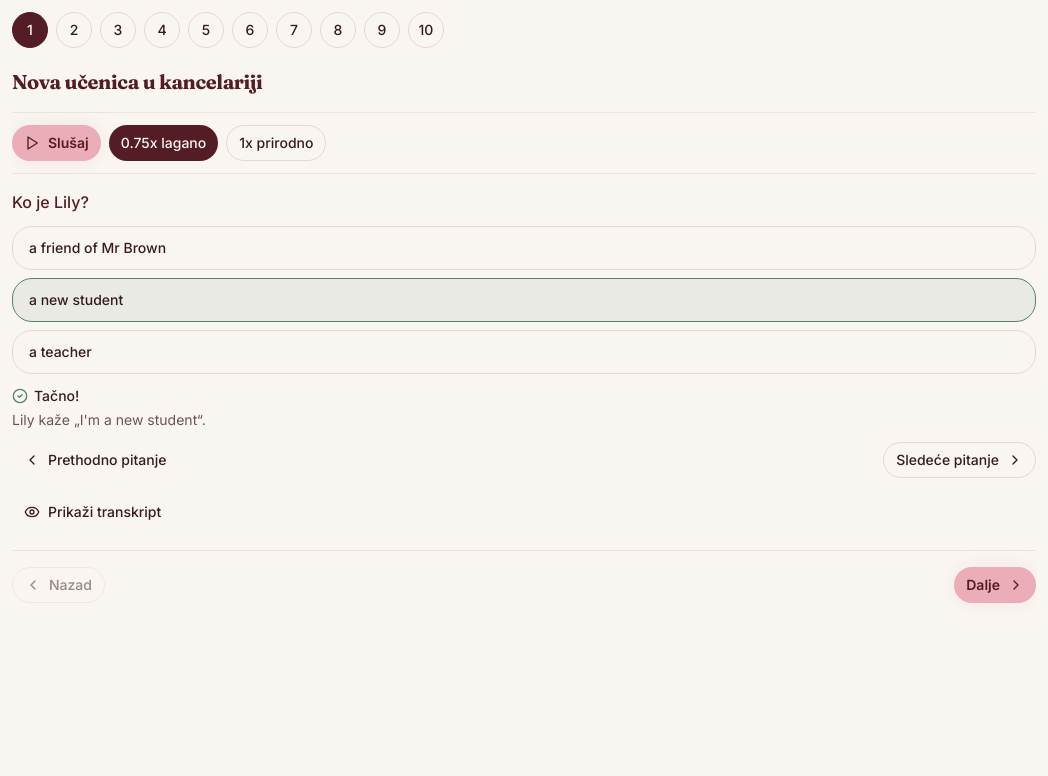
Test: Unified lesson listening › preserves answers on navigation, uses requested speeds, completes all ten and deduplicates rewards
Earlier steps of the test are not shown.
Later steps or results of the test are not shown.
Click the button "Sledeće pitanje" at {"x": 960, "y": 460}, box [883,442,1036,478]
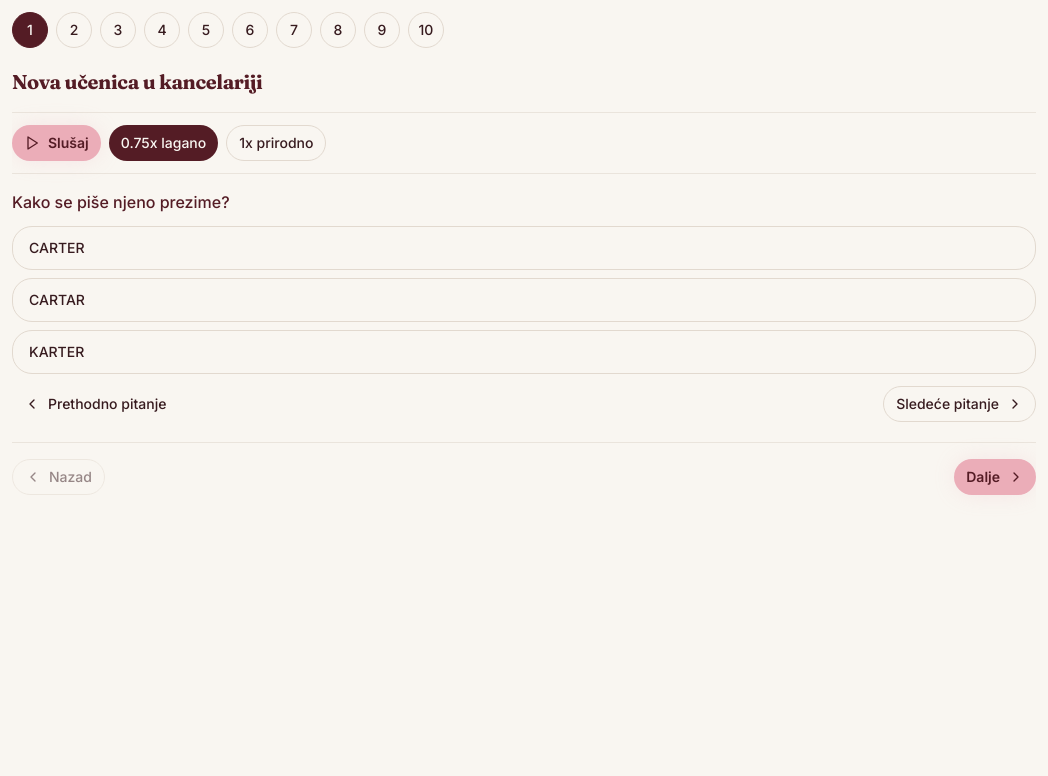
Click the button "CARTER" at {"x": 57, "y": 248}, box [12,226,1036,270]
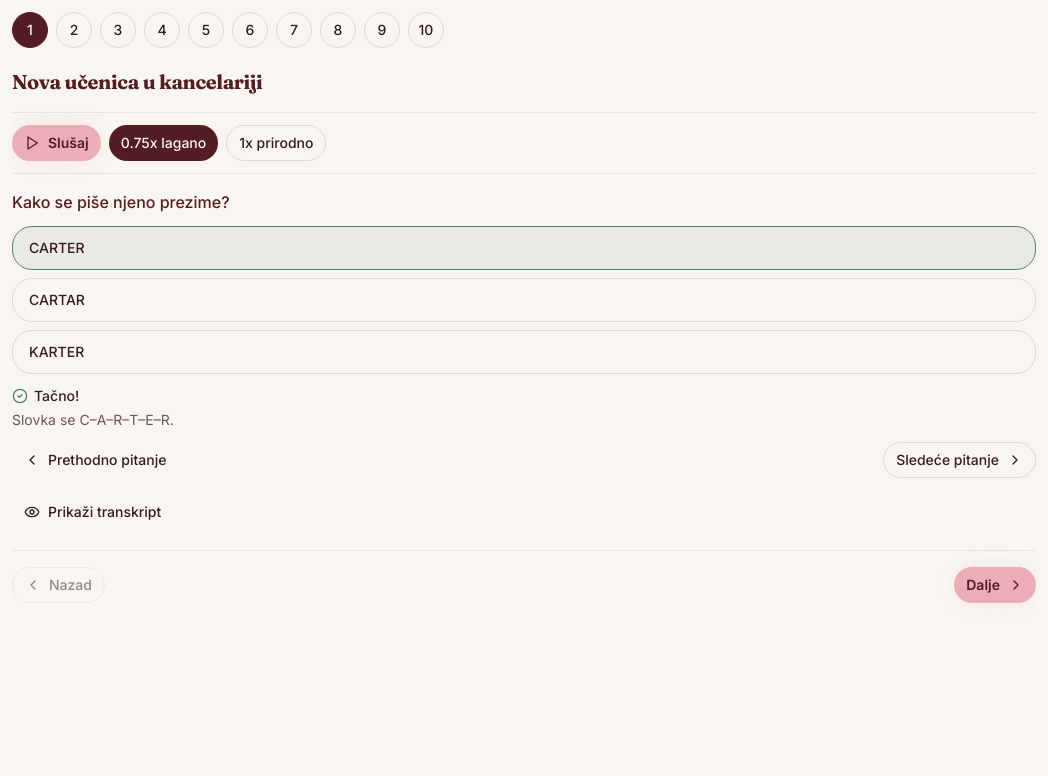
Click the button "Sledeće pitanje" at {"x": 960, "y": 460}, box [883,442,1036,478]
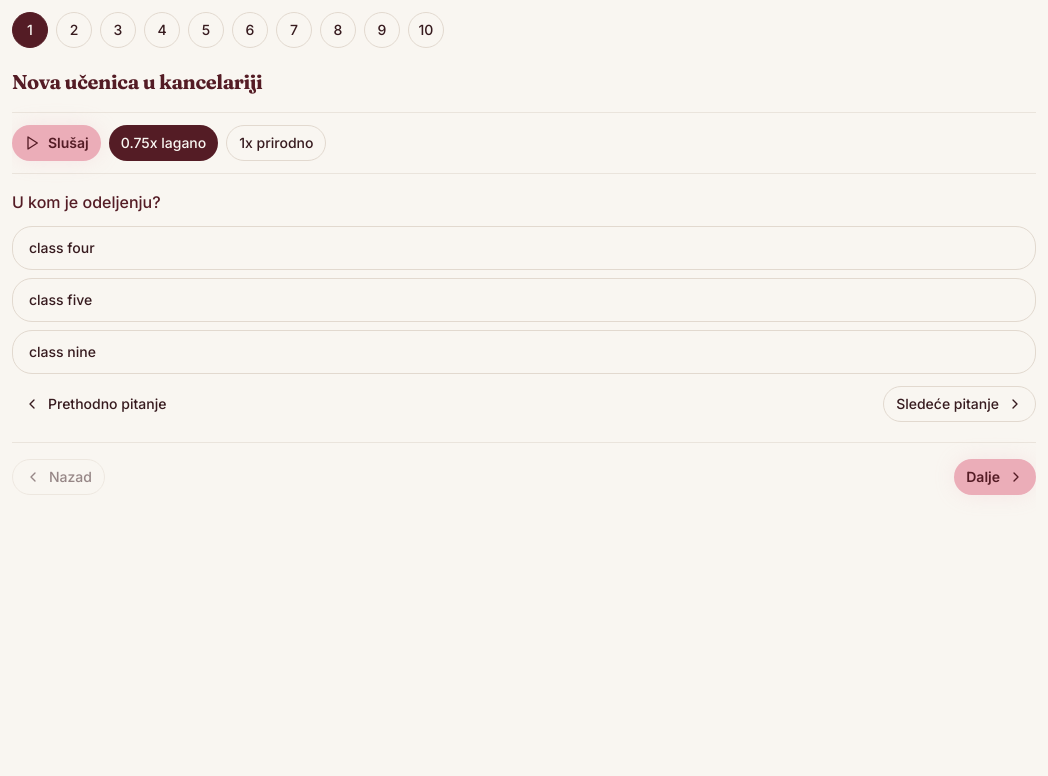
Click the button "class five" at {"x": 61, "y": 300}, box [12,278,1036,322]
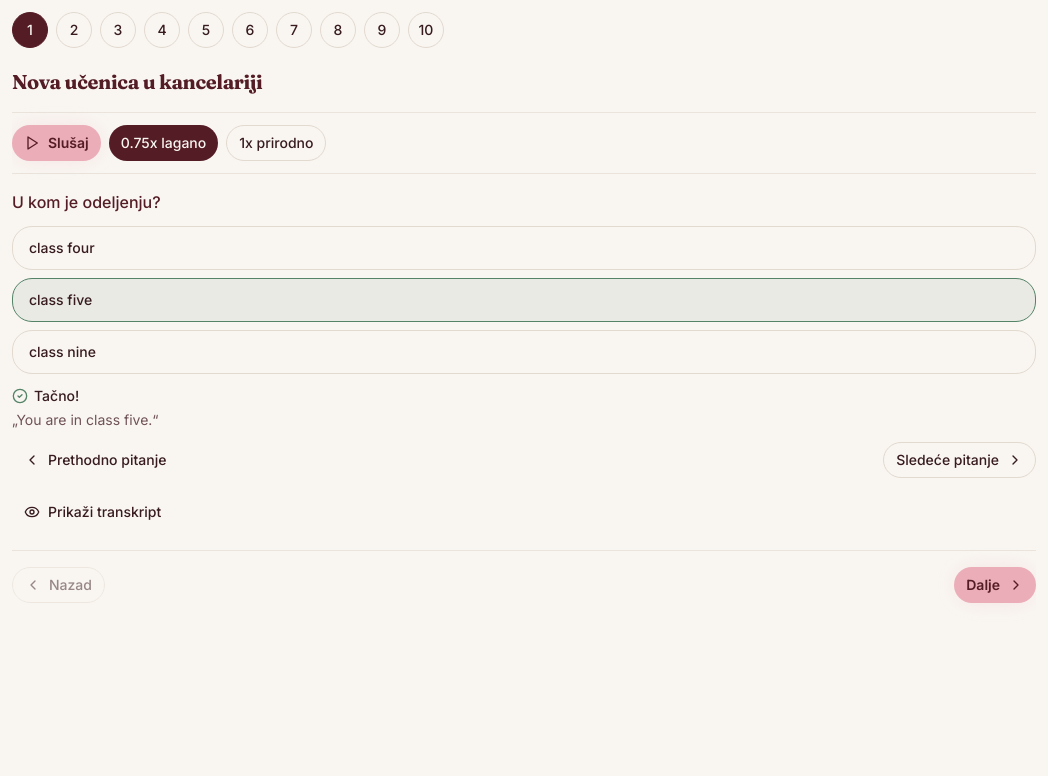
Click the button "Sledeće pitanje" at {"x": 960, "y": 460}, box [883,442,1036,478]
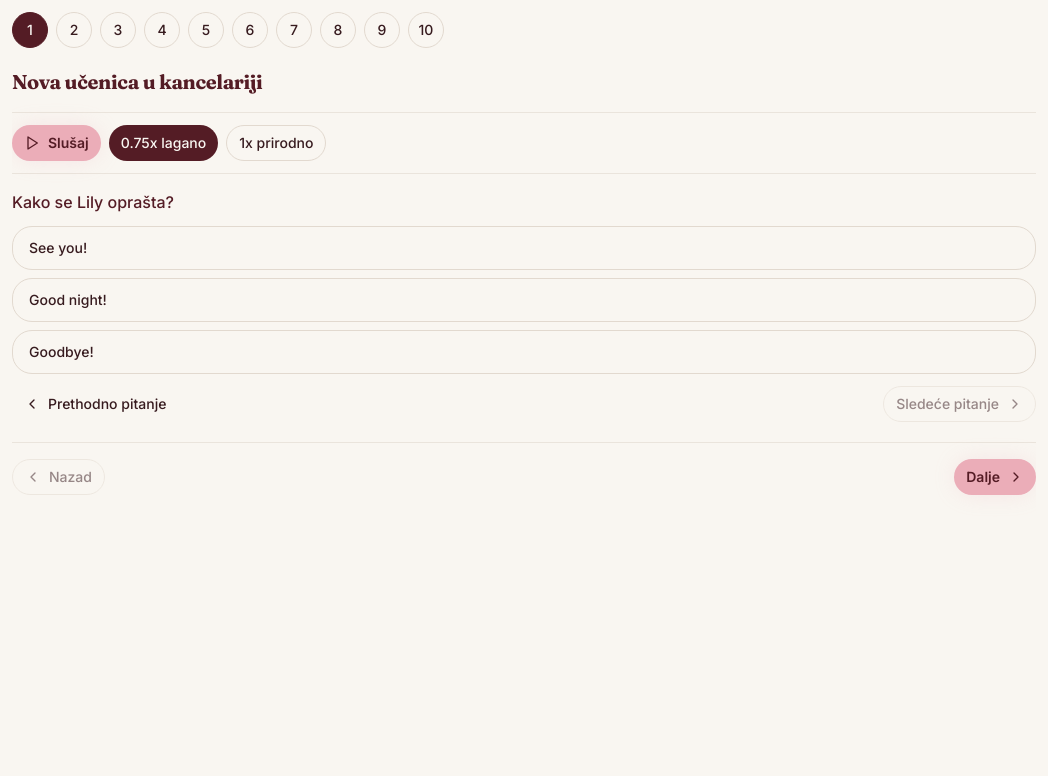
Click the button "Goodbye!" at {"x": 61, "y": 352}, box [12,330,1036,374]
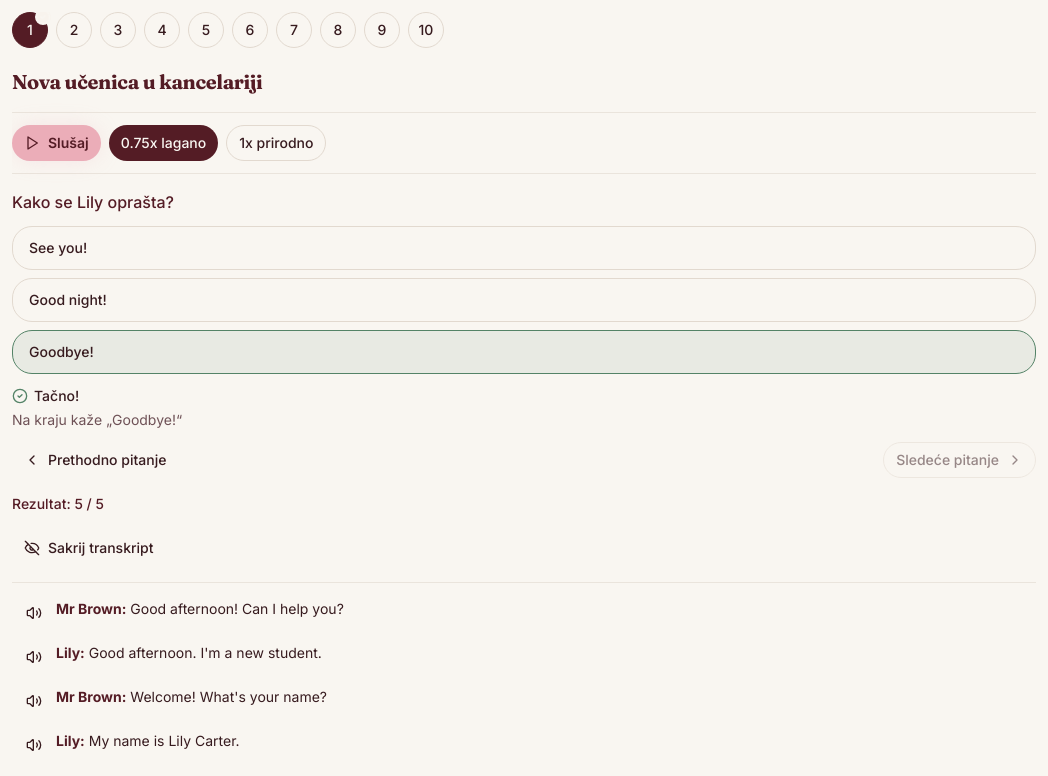
Expected: the button "Sakrij transkript" is shown, [12,530,166,566]
